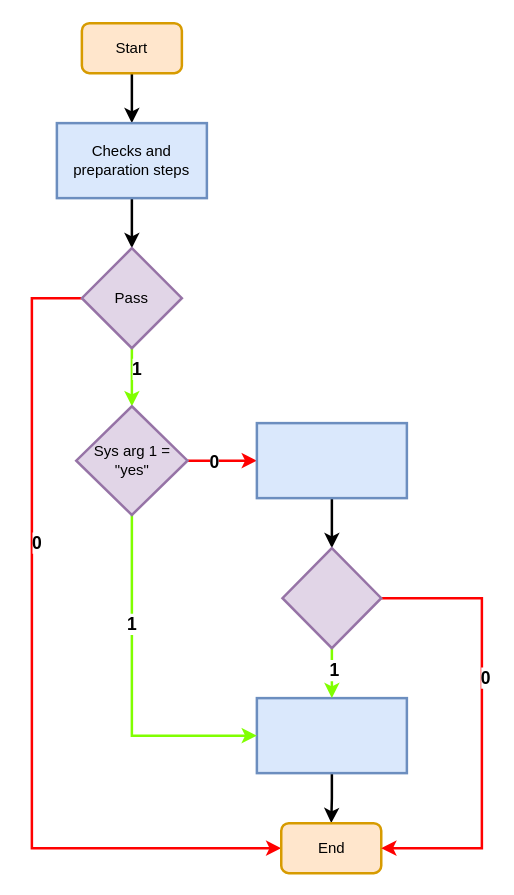
Some shapes in this 514 by 895 pixel diagram are drawn without their labels. Here are the shapes that lost their labels. From the top down, the centre of each, then its label:
pixel 331 460: Interactive 'yes to proceed' prompt
pixel 331 597: "yes"
pixel 331 735: Primary logic of the script
